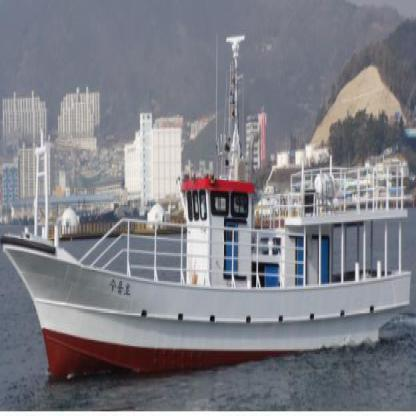fish-b: (0, 35, 415, 390)
